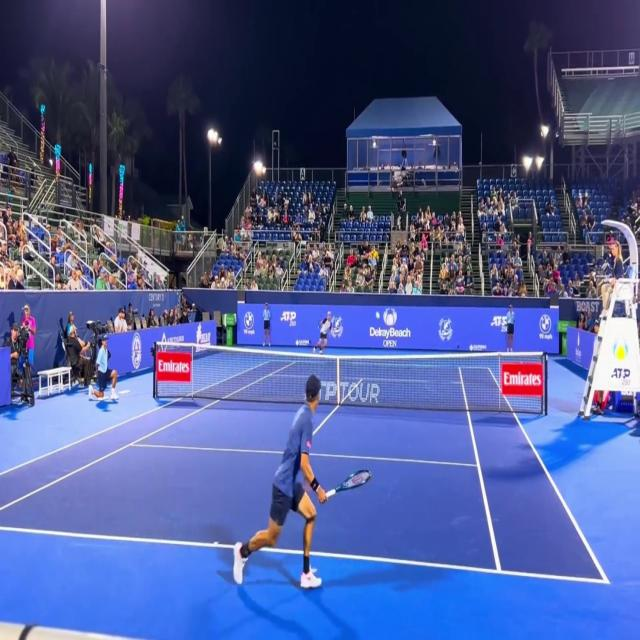tennisBall: (372, 309, 383, 320)
